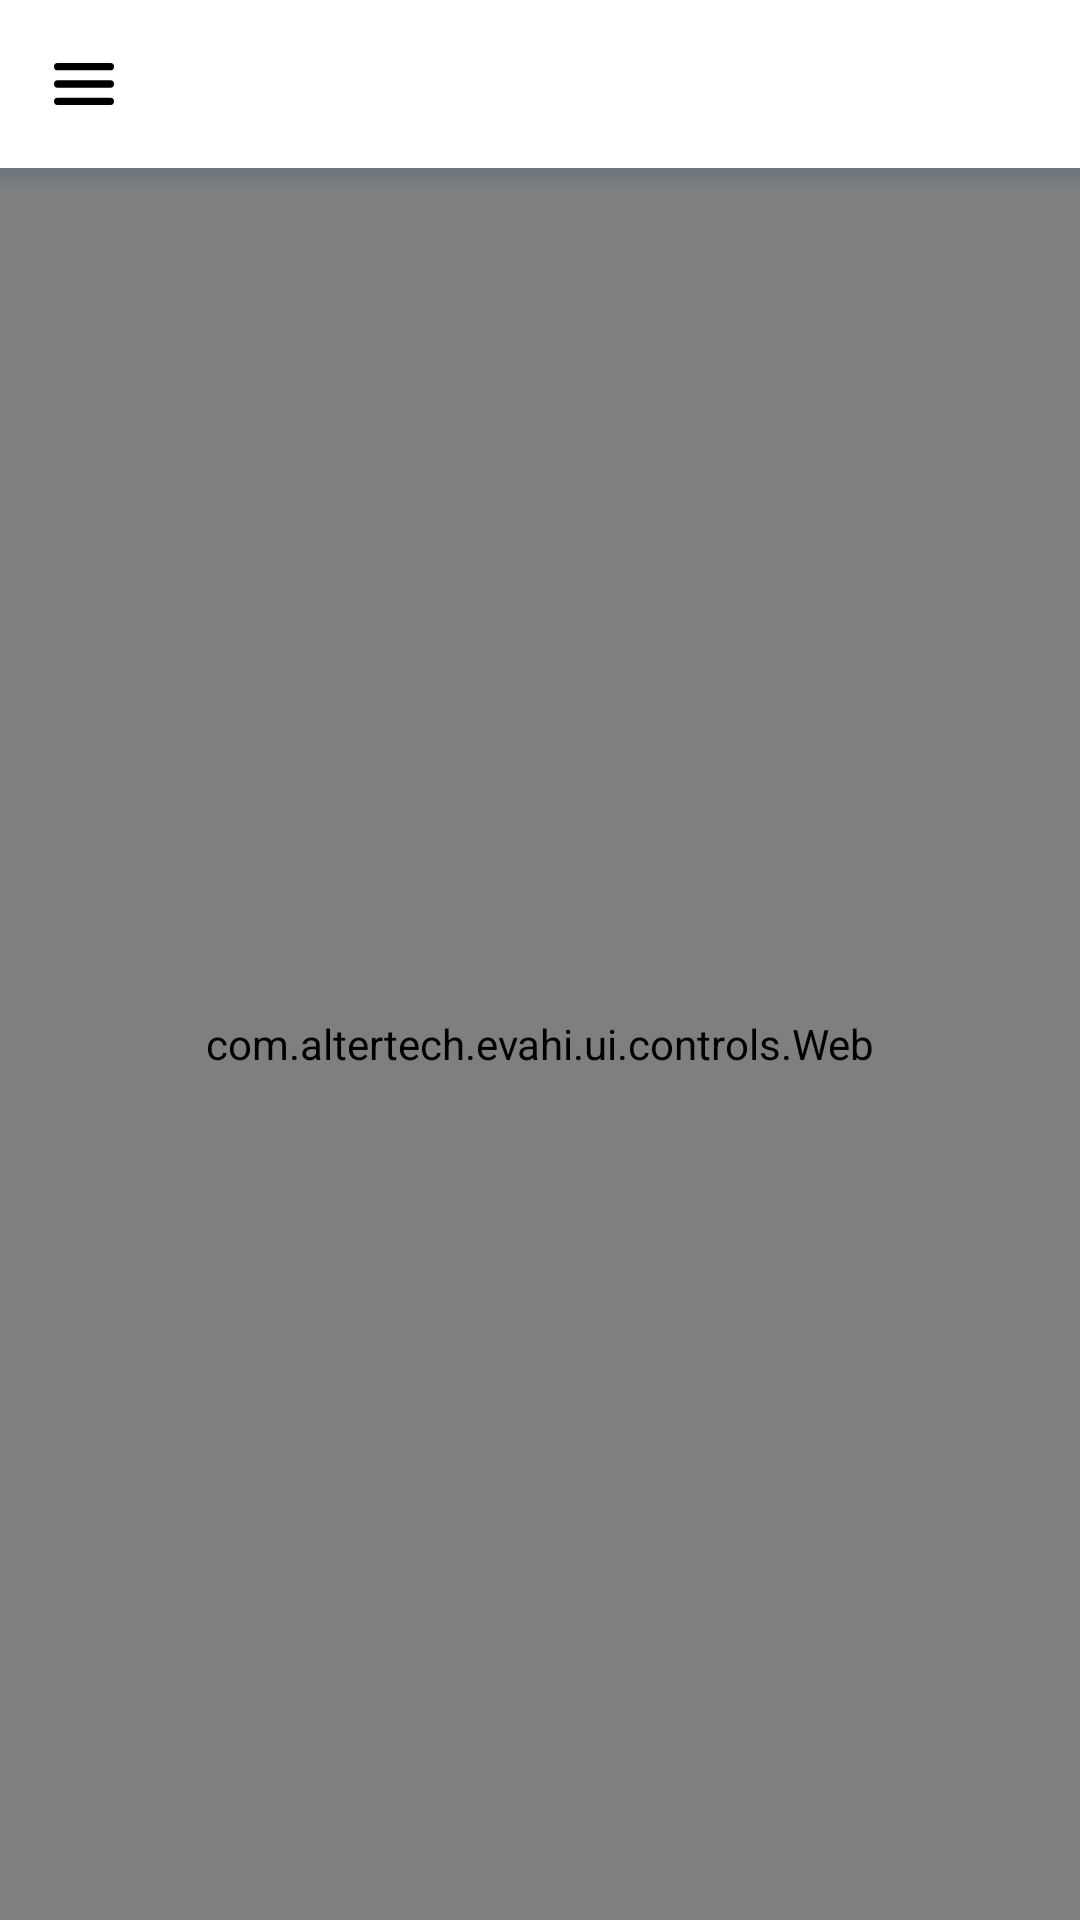

Where to tap for icons on this 1080×1920 app screen, as (x,y):
menu: (84,84)
